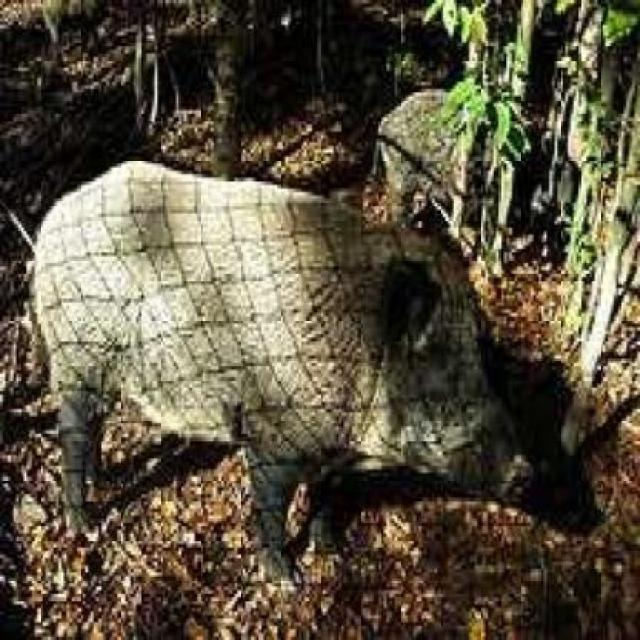Boar: (9, 60, 623, 594)
